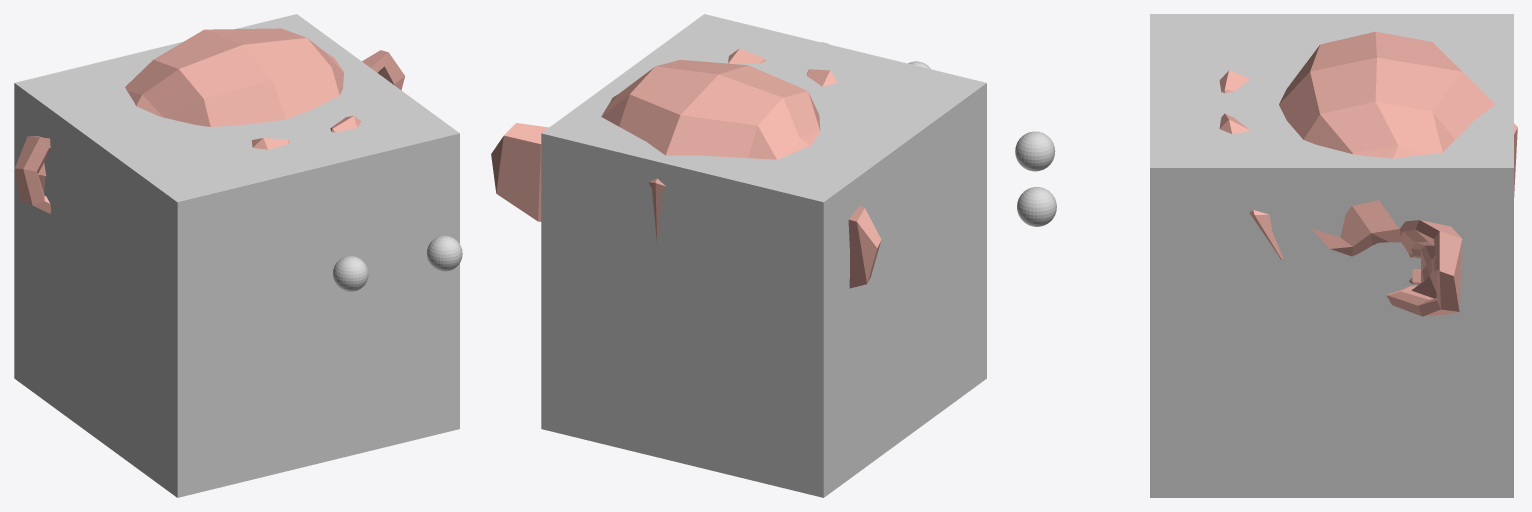
Rendered from Suzannes_eyes_baked.glb.
3 renders of one model, left to right at view 1: azimuth 30°, elevation 25°; view 2: azimuth 150°, elevation 25°; view 3: azimuth 270°, elevation 25°, orthographic. The views are drawn at different scales.
Parts seen in each view (by area): view 1: Cube, Suzanne, Sphere, Sphere.001; view 2: Cube, Suzanne; view 3: Cube, Suzanne, Sphere.001, Sphere.
Part boxes in pixels (box(x1,y1,x2,y2)): Cube: box(14, 14, 459, 497); Suzanne: box(15, 28, 404, 213); Sphere: box(426, 235, 462, 271); Sphere.001: box(333, 256, 368, 291); Cube: box(541, 14, 986, 497); Suzanne: box(491, 48, 881, 288); Cube: box(1150, 14, 1513, 497); Suzanne: box(1219, 31, 1517, 316); Sphere.001: box(1015, 131, 1055, 171); Sphere: box(1017, 187, 1056, 226).
Size of what is drawn, in the model's own units: 2.73 by 2.29 by 2.76.
